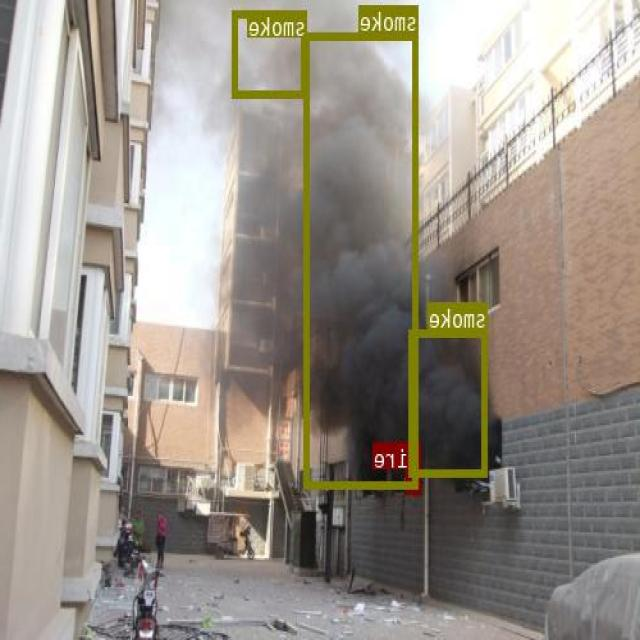fire: (408, 468, 422, 492)
smoke: (305, 32, 419, 488), (410, 329, 488, 475), (234, 10, 308, 96)
